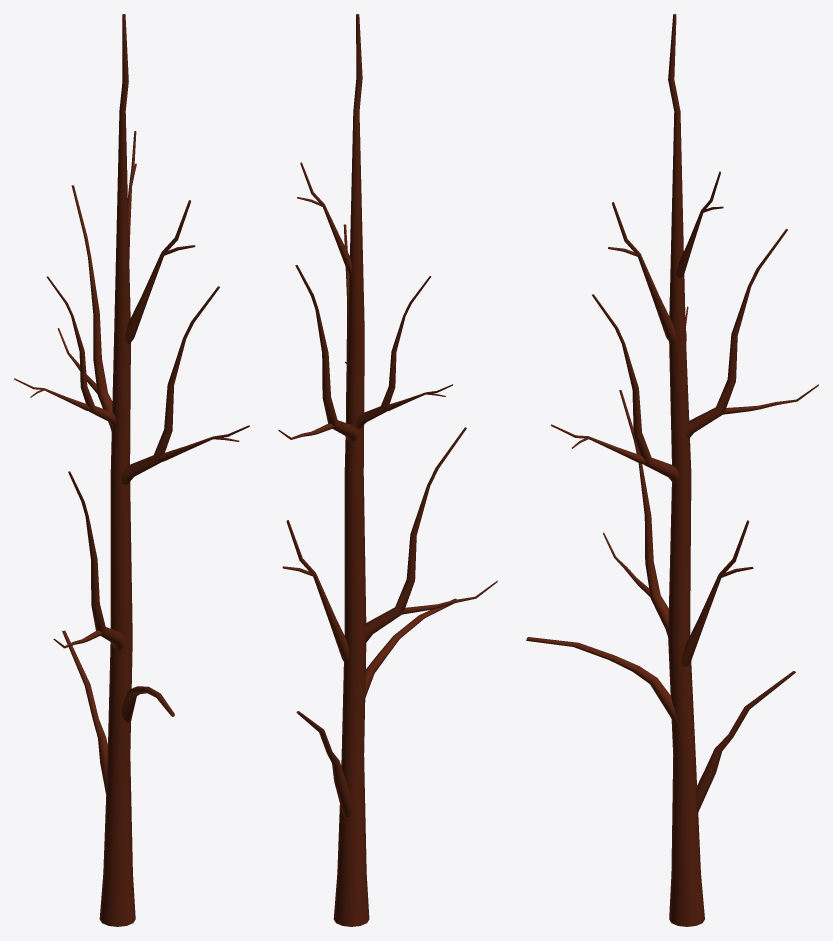
Rendered from AnimeTree.obj.
3 views of the same model, side by side, from view 1: azimuth 30°, elevation 25°; view 2: azimuth 150°, elevation 25°; view 3: azimuth 270°, elevation 25° (orthographic).
Parts seen in each view (by area): view 1: Cylinder; view 2: Cylinder; view 3: Cylinder.
Boxes of the visible parts, x1,y1,x2,y2 form: Cylinder: [14, 14, 249, 926]; Cylinder: [278, 14, 497, 926]; Cylinder: [526, 14, 818, 926].
Bounding box in the file's own units: 0.9323 × 4.76 × 1.4.
Materials: 1 (1 with a texture image).
